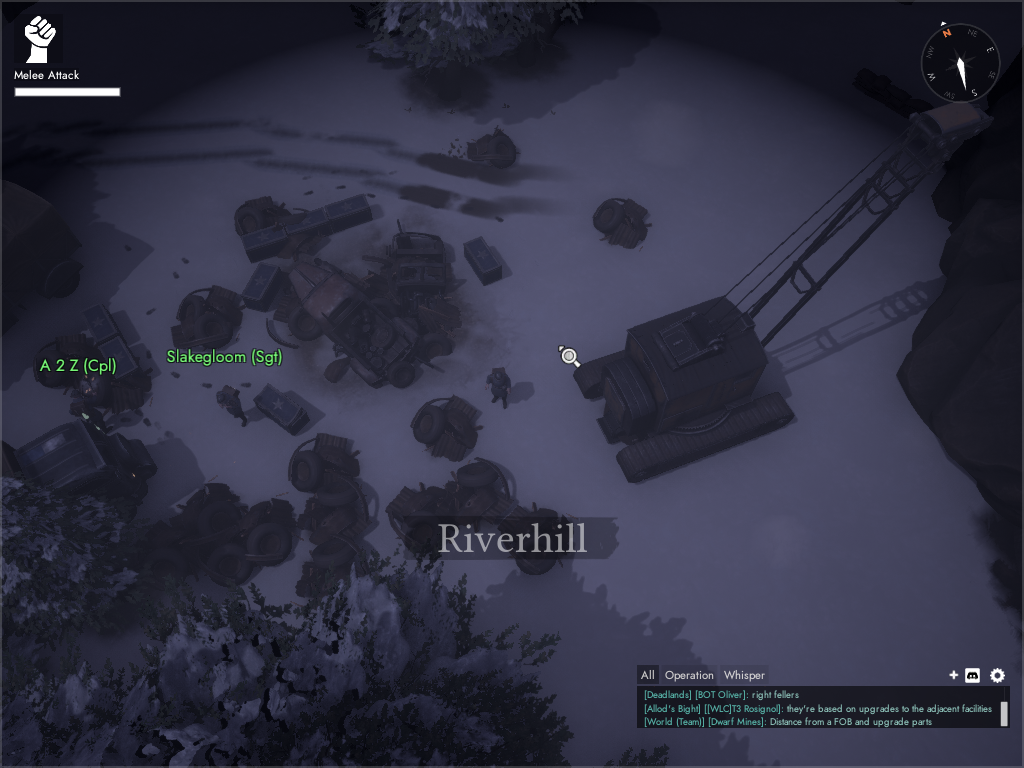crane: (573, 100, 996, 484)
player: (214, 385, 248, 429), (64, 353, 96, 396), (487, 366, 510, 410)
scrap: (497, 503, 579, 576), (165, 283, 246, 356), (167, 483, 248, 553), (286, 429, 366, 499), (409, 389, 482, 465), (295, 539, 379, 600), (444, 456, 516, 523), (297, 484, 377, 544), (383, 480, 453, 545), (589, 194, 655, 254), (465, 126, 525, 172), (229, 193, 290, 236)
storage_box: (251, 380, 310, 437), (461, 230, 506, 290), (95, 335, 143, 387), (279, 204, 334, 249), (237, 261, 283, 310), (239, 218, 290, 262), (325, 190, 375, 231), (79, 301, 118, 345)
truck: (1, 419, 158, 526), (1, 178, 82, 329)
